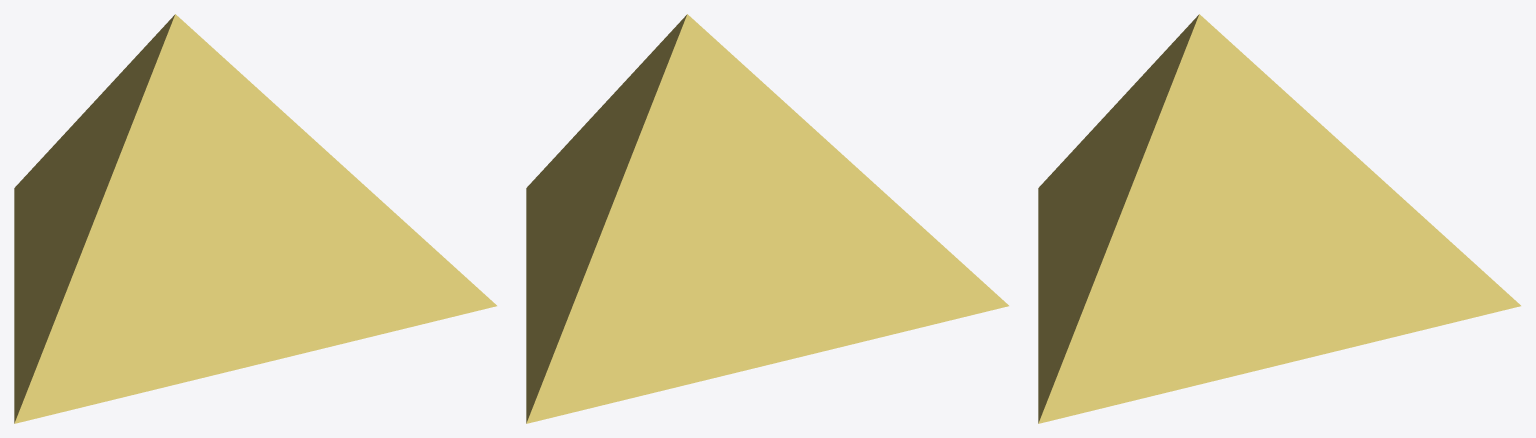
Rendered from piramid_base.fbx.
3 views of the same model, side by side, from view 1: azimuth 30°, elevation 25°; view 2: azimuth 150°, elevation 25°; view 3: azimuth 270°, elevation 25° (orthographic).
Parts seen in each view (by area): view 1: Cone; view 2: Cone; view 3: Cone.
Boxes of the visible parts, x1,y1,x2,y2 form: Cone: (14,14,496,423); Cone: (526,14,1008,423); Cone: (1038,14,1520,423).
Bounding box in the file's own units: 346 × 200 × 300.
